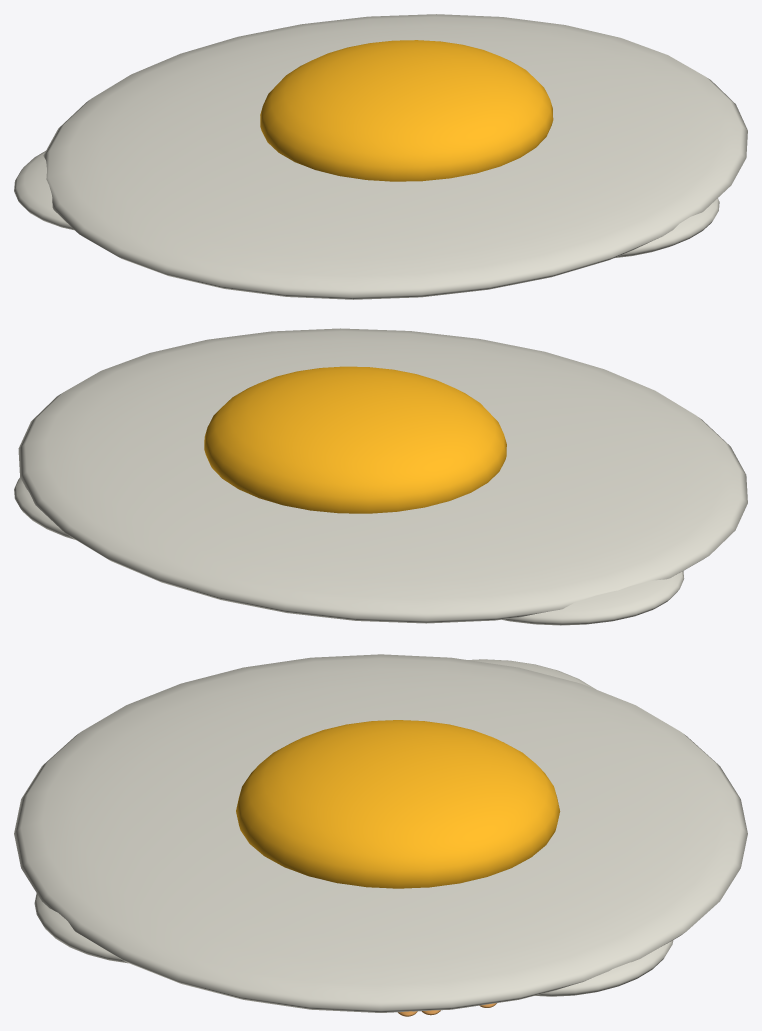
The model's file is item_fried_egg.glb.
The picture shows the model from 3 angles, top to bottom: view 1: azimuth 30°, elevation 25°; view 2: azimuth 150°, elevation 25°; view 3: azimuth 270°, elevation 25°; orthographic projection. The views are drawn at different scales.
Parts seen in each view (by area): view 1: 白身; view 2: 白身; view 3: 白身.
Part boxes in pixels (left/top/right/bottom): 白身: left=14, top=14, right=747, bottom=299; 白身: left=14, top=328, right=747, bottom=625; 白身: left=14, top=654, right=747, bottom=1016.
Size of the model in its own units: 0.99 by 0.156 by 0.86.
